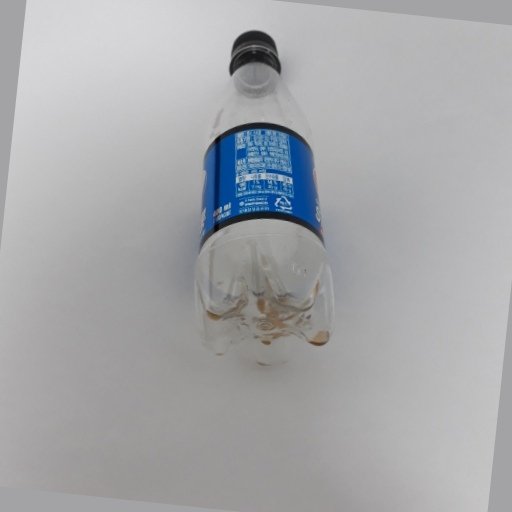Plastic_0: (193, 26, 341, 374)
